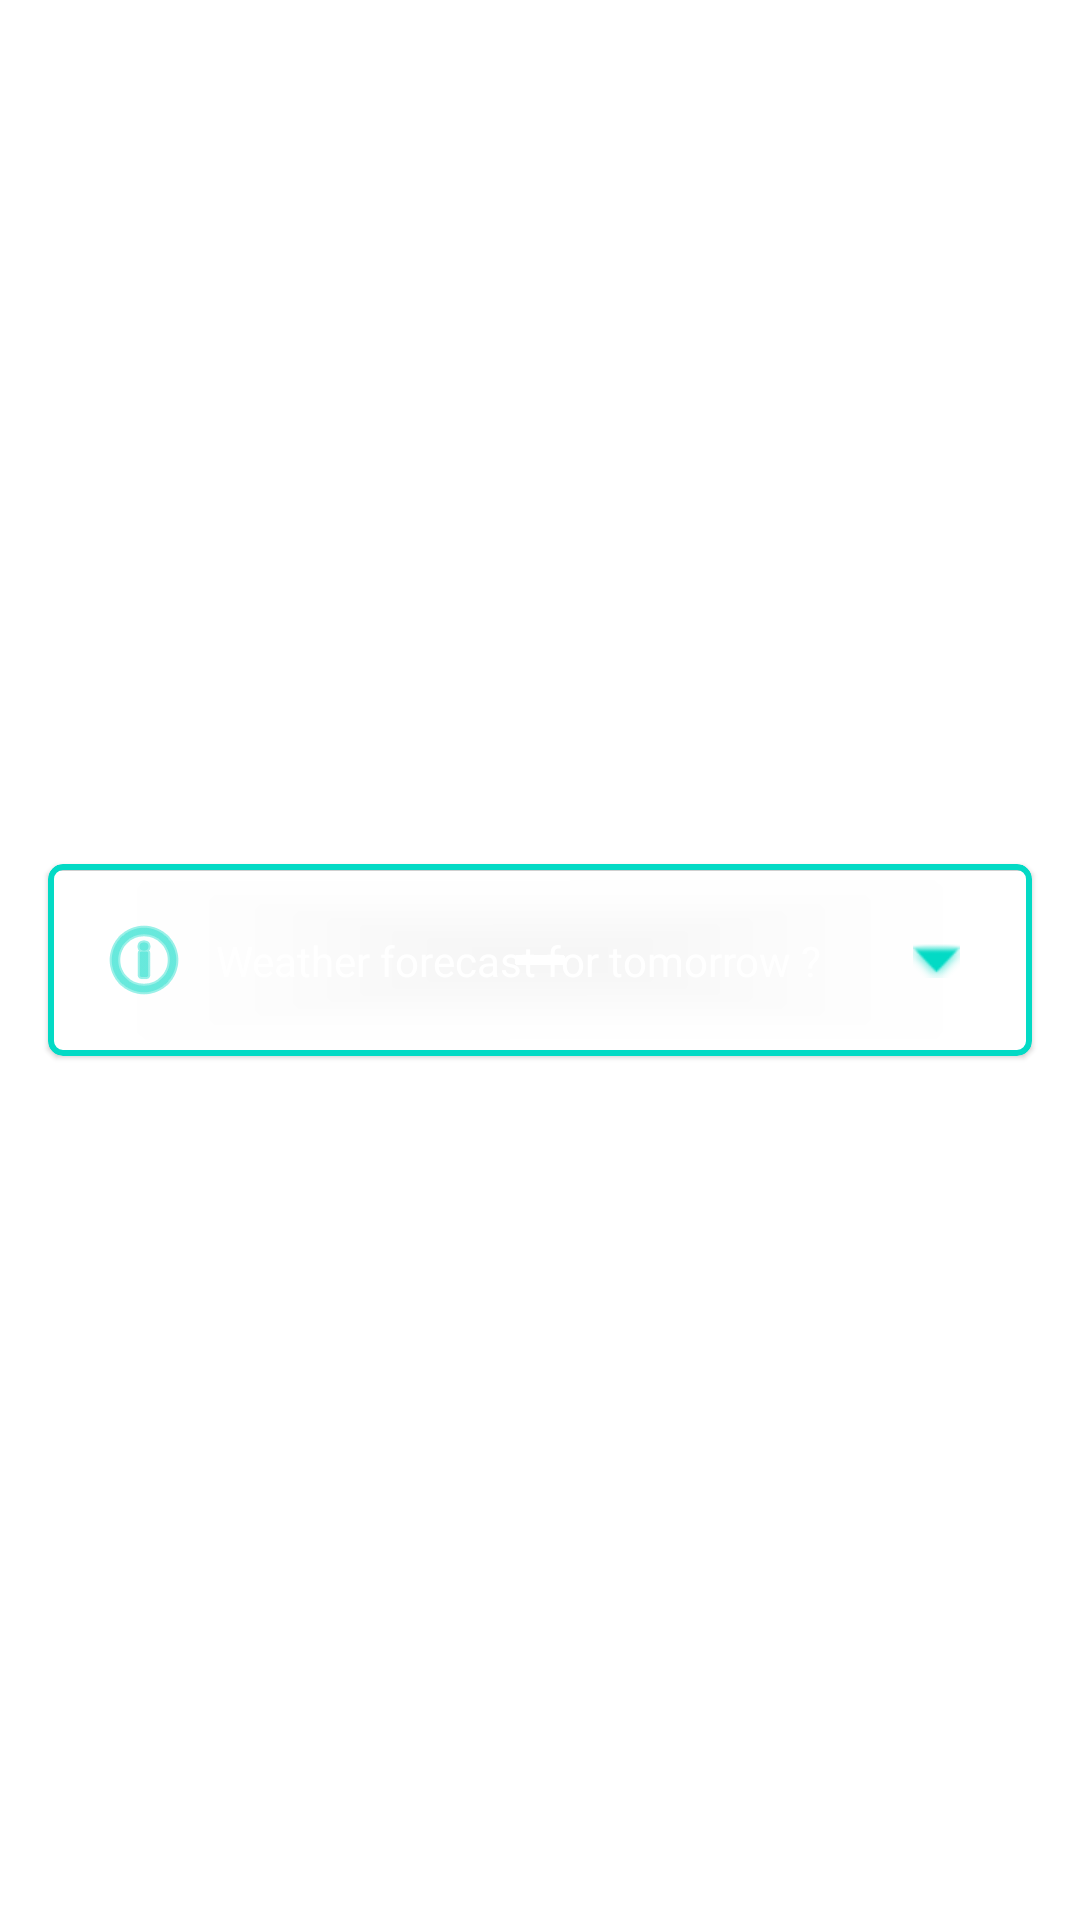

Named icons in this screenshot (1080px x 1920px) and their bounding boxes, (x1, y1, x2, y2):
arrow down float: (913, 945, 960, 977)
info details: (109, 925, 179, 995)
